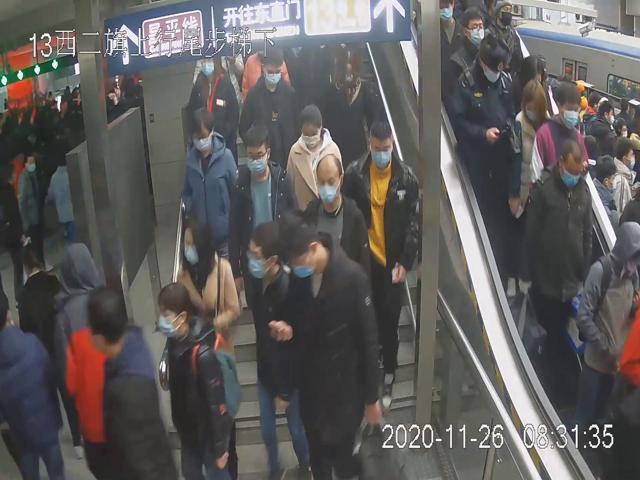person: (268, 210, 387, 480), (340, 119, 420, 394), (519, 137, 595, 371), (245, 220, 311, 480), (156, 281, 240, 477), (227, 122, 295, 286), (299, 154, 372, 294), (174, 216, 242, 356), (182, 107, 240, 267), (449, 41, 517, 173), (237, 43, 308, 157), (285, 103, 345, 221), (529, 76, 590, 190), (446, 8, 493, 103)
